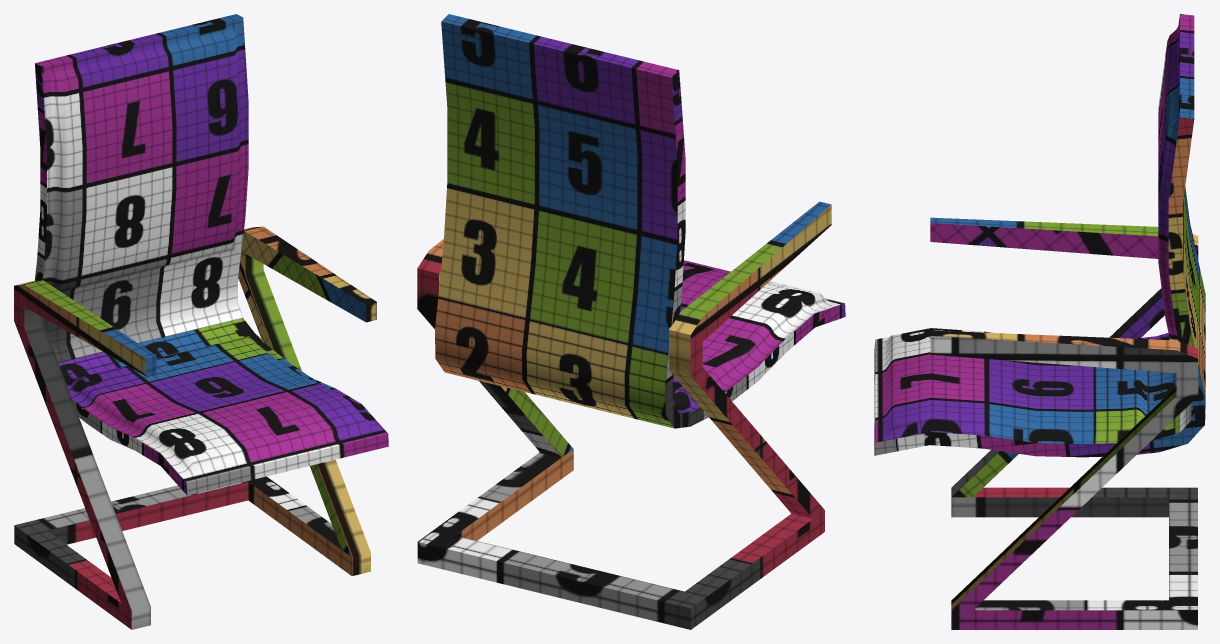
File: Study_Chair_1.FBX
3 views of the same model, side by side, from view 1: azimuth 30°, elevation 25°; view 2: azimuth 150°, elevation 25°; view 3: azimuth 270°, elevation 25° (orthographic). The views are drawn at different scales.
Parts seen in each view (by area): view 1: Study_Chair_1; view 2: Study_Chair_1; view 3: Study_Chair_1.
Part boxes in pixels (x1,y1,x2,y2): Study_Chair_1: (14,14,388,629); Study_Chair_1: (417,14,845,629); Study_Chair_1: (874,14,1205,629).
Bounding box in the file's own units: 0.7683 × 1.47 × 0.8783.
